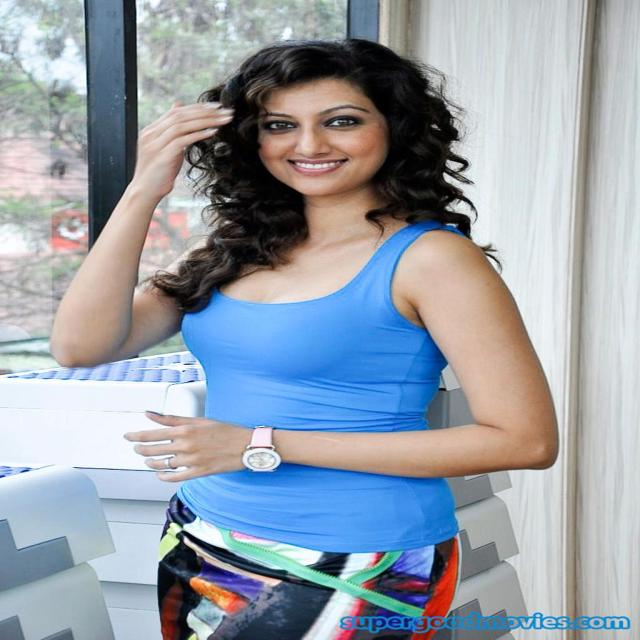Face: (239, 78, 432, 222)
